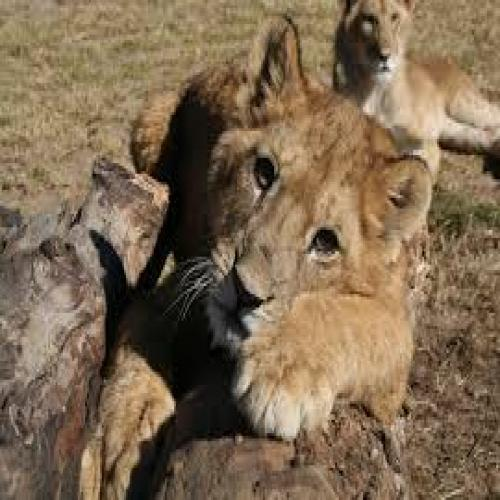lion-endangered: (84, 19, 431, 500), (333, 0, 500, 150)
